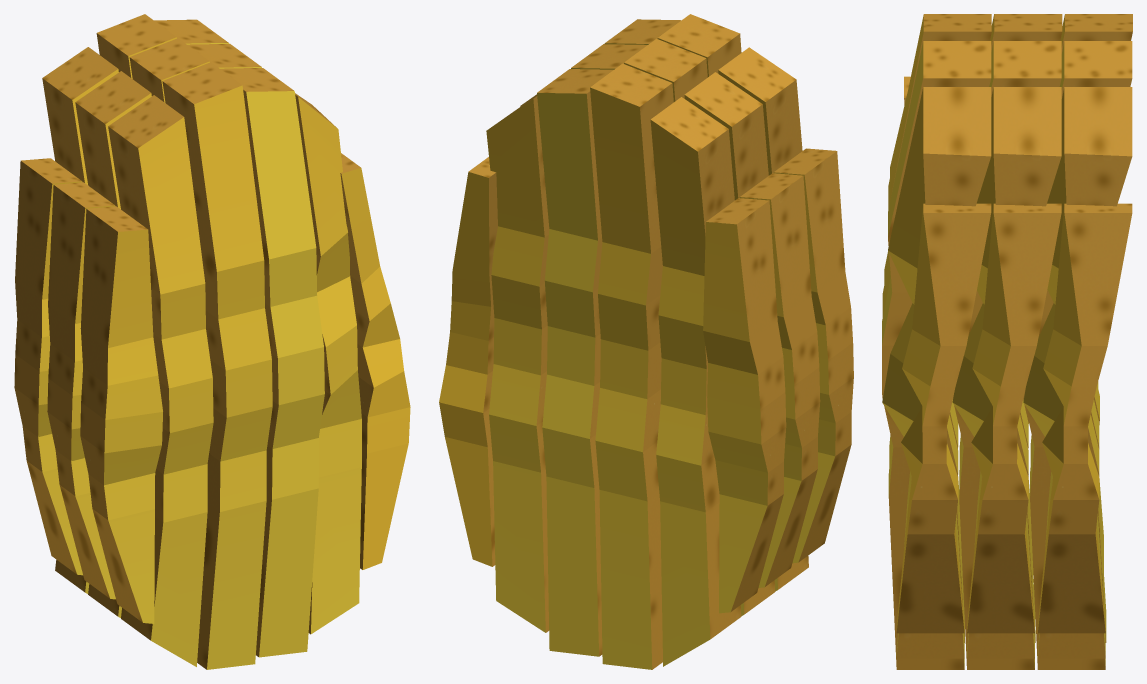
File: KenarlarıSoyulmamıs.fbx
3 views of the same model, side by side, from view 1: azimuth 30°, elevation 25°; view 2: azimuth 150°, elevation 25°; view 3: azimuth 270°, elevation 25° (orthographic). The views are drawn at different scales.
Visible parts, largest first — view 1: Cube.025, Cube.026, Cube.024, Cube.027, Cube.023, Cube.022, Cube.037, Cube.007, Cube.036, Cube.006, Cube.035, Cube.005 (+2 smaller); view 2: Cube.035, Cube.034, Cube.036, Cube.009, Cube.037, Cube.008, Cube.007, Cube.027, Cube.006, Cube.026, Cube.005, Cube.025 (+2 smaller); view 3: Cube.022, Cube.008, Cube.002, Cube.023, Cube.009, Cube.003, Cube.024, Cube.034, Cube.004, Cube.025, Cube.035, Cube.005.
Boxes of the visible parts, x1,y1,x2,y2 form: Cube.025: (162,62,272,669); Cube.026: (108,95,213,666); Cube.024: (220,68,324,657); Cube.027: (80,206,162,623); Cube.023: (295,93,361,634); Cube.022: (340,153,410,569); Cube.037: (14,158,82,575); Cube.007: (47,182,115,599); Cube.036: (42,47,118,593); Cube.006: (75,71,151,617); Cube.035: (96,14,176,78); Cube.005: (129,38,209,102); Cube.035: (590,63,673,669); Cube.034: (537,69,613,656); Cube.036: (650,97,741,666); Cube.009: (486,95,549,632); Cube.037: (703,198,786,613); Cube.008: (439,157,497,566); Cube.007: (739,173,820,587); Cube.027: (773,148,853,563); Cube.006: (684,72,775,616); Cube.026: (718,47,808,591); Cube.005: (624,38,707,101); Cube.025: (657,14,741,77); Cube.022: (896,203,991,633); Cube.008: (1037,203,1132,633); Cube.002: (967,203,1061,633); Cube.023: (882,87,991,658); Cube.009: (1023,87,1132,658); Cube.003: (952,87,1061,658); Cube.024: (882,41,991,669); Cube.034: (1023,41,1132,669); Cube.004: (953,41,1061,669); Cube.025: (882,14,991,642); Cube.035: (1030,14,1132,642); Cube.005: (959,14,1062,642).
Size of the model in its own units: 106 by 185 by 68.96.
